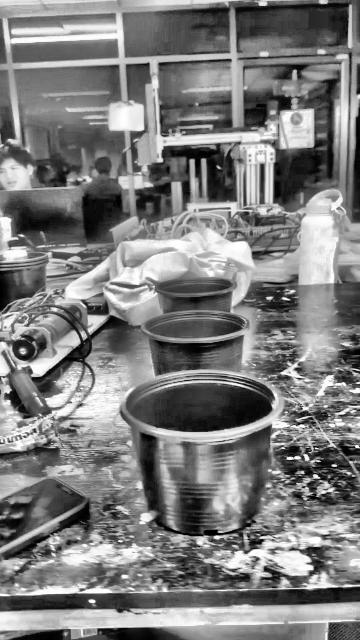pot: (121, 372, 277, 532), (141, 310, 249, 376), (155, 277, 237, 313), (0, 256, 51, 304)
